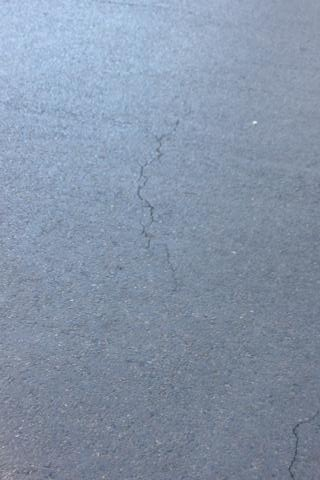A: (134, 112, 185, 296), (280, 407, 320, 477)
